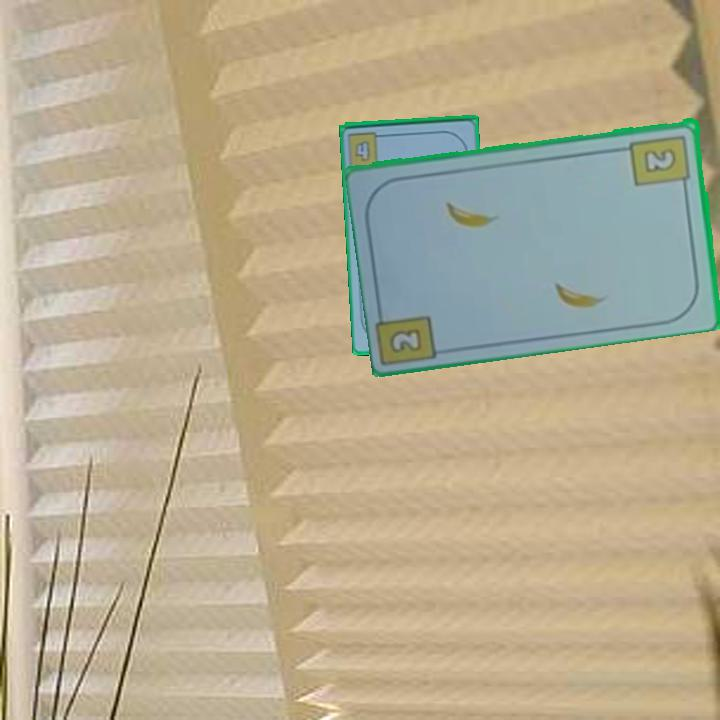2b: (627, 131, 694, 192), (385, 324, 426, 356)
4b: (352, 137, 374, 165)
